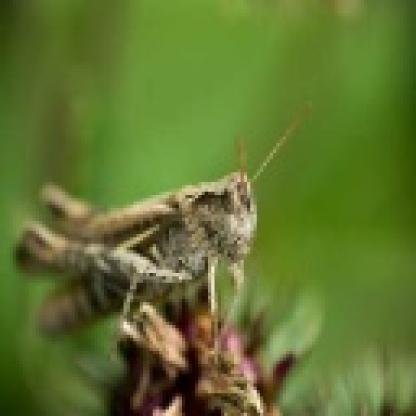grasshopper: (18, 157, 290, 327)
